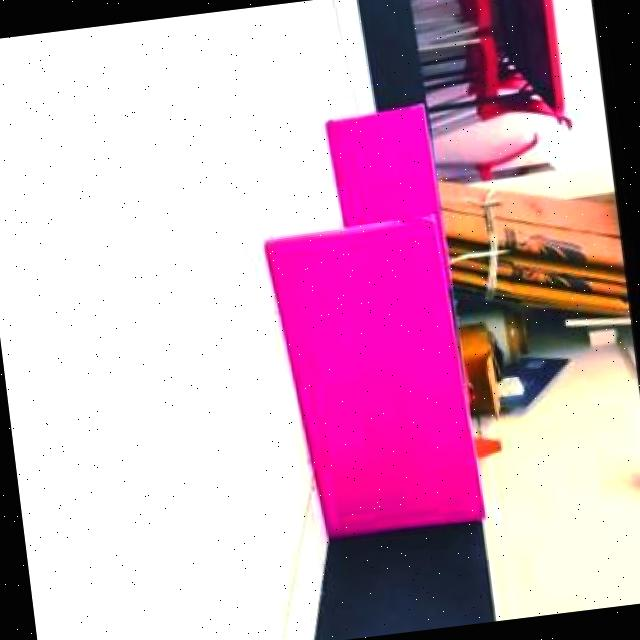xparking: (284, 219, 473, 534), (332, 104, 441, 223)
